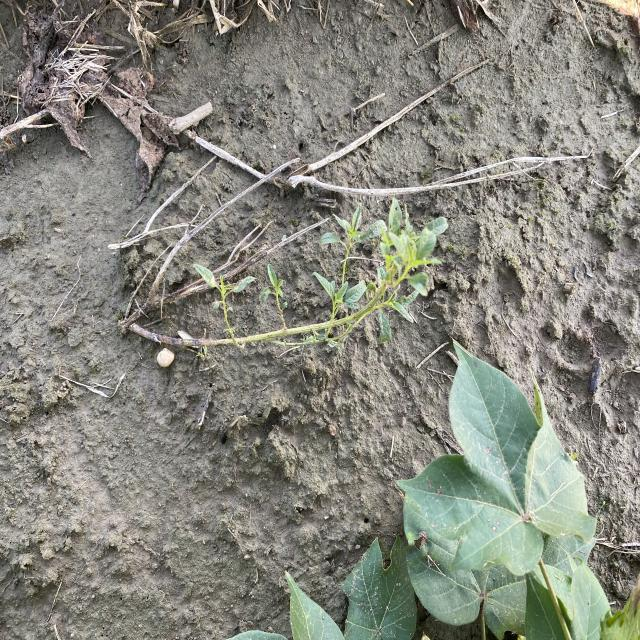Waterhemp: (123, 195, 450, 362)
